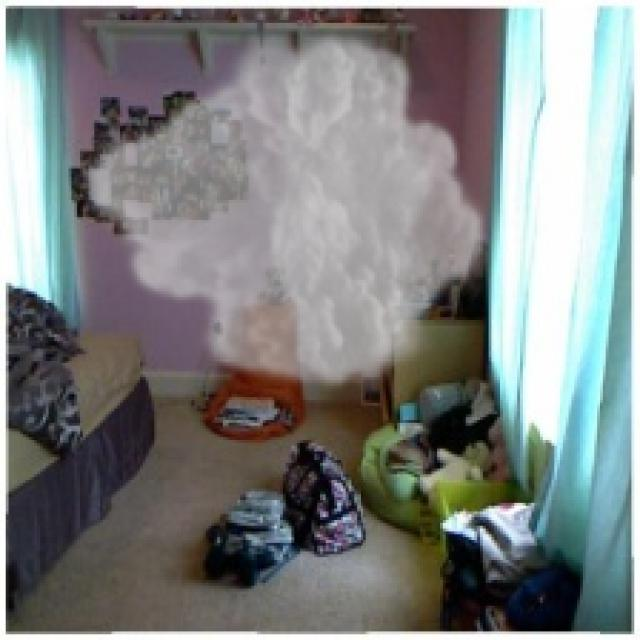smoke: (77, 23, 492, 397)
